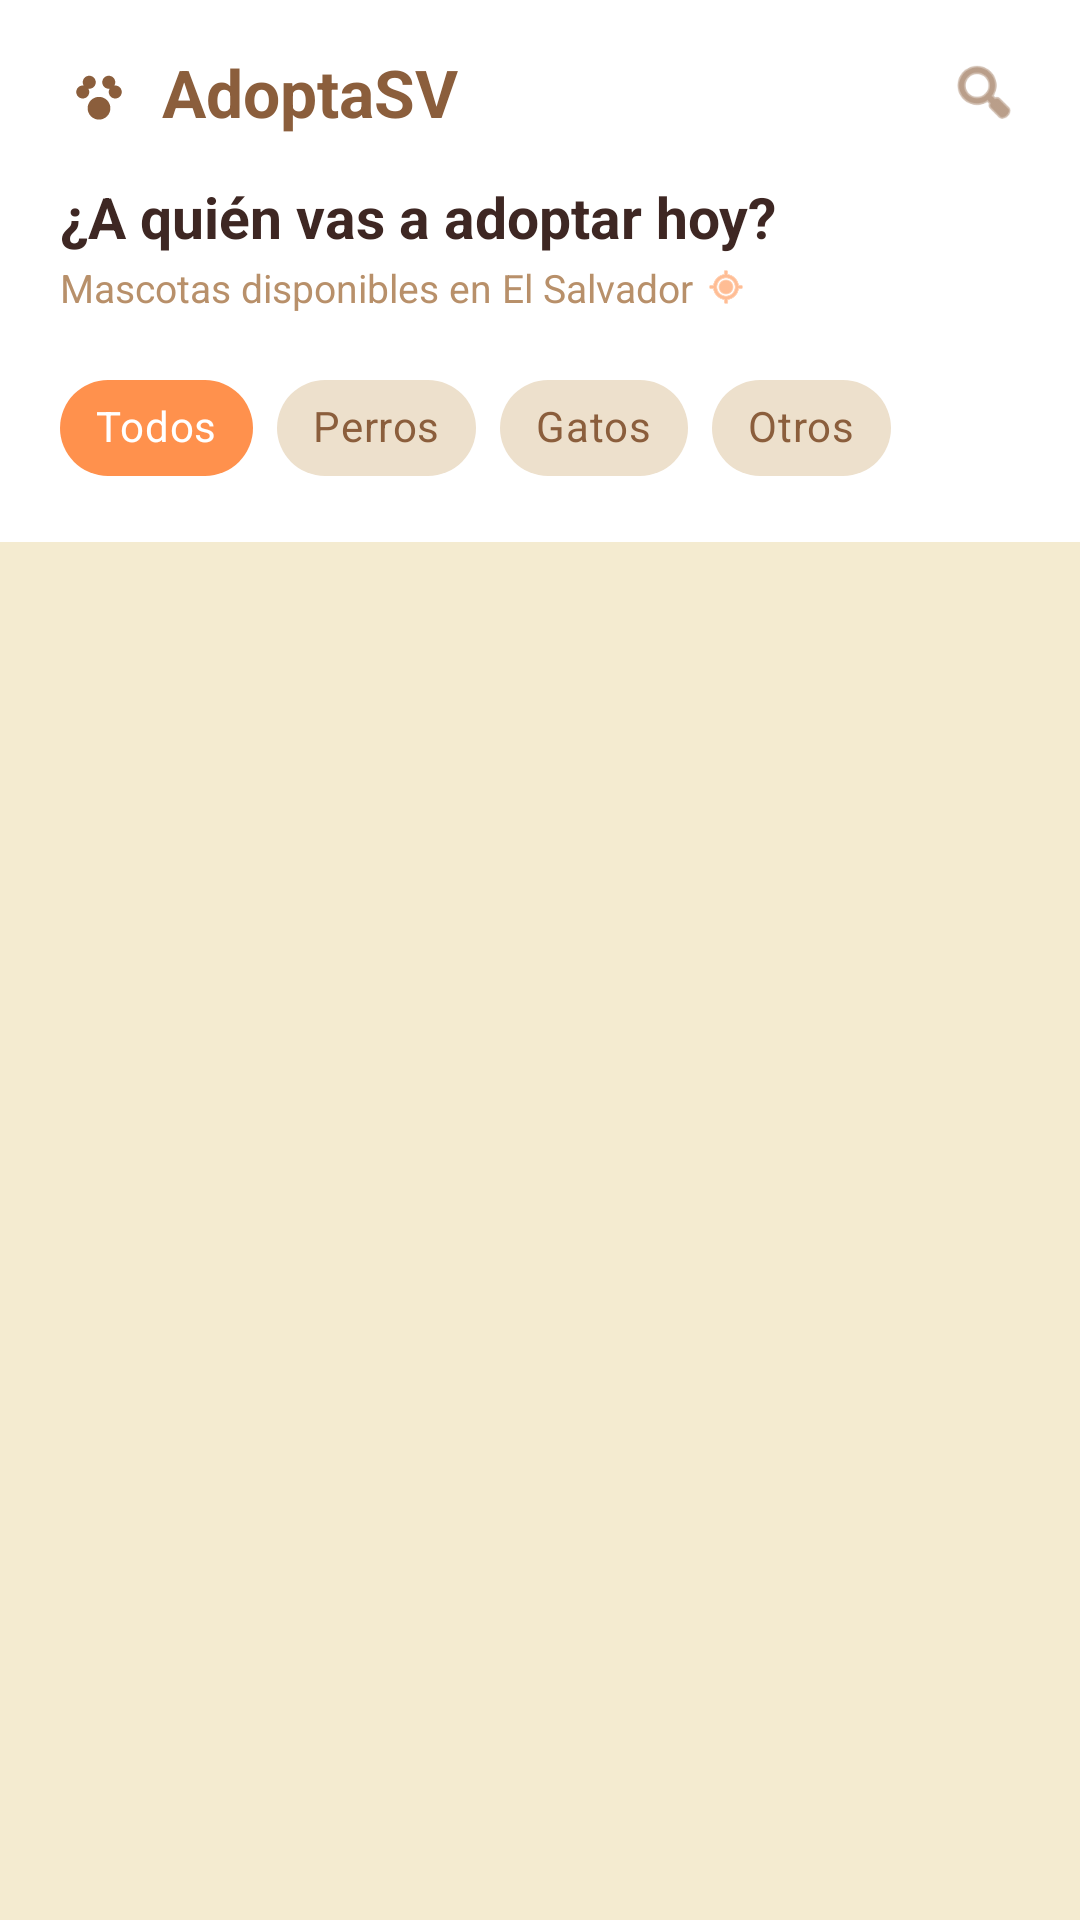

Screen size 1080 × 1920. Icon name, then its box in pixels as detection(x1, y1, x2, y2):
mylocation: detection(709, 270, 743, 304)
paw: detection(76, 75, 122, 120)
search: detection(957, 66, 1011, 119)
